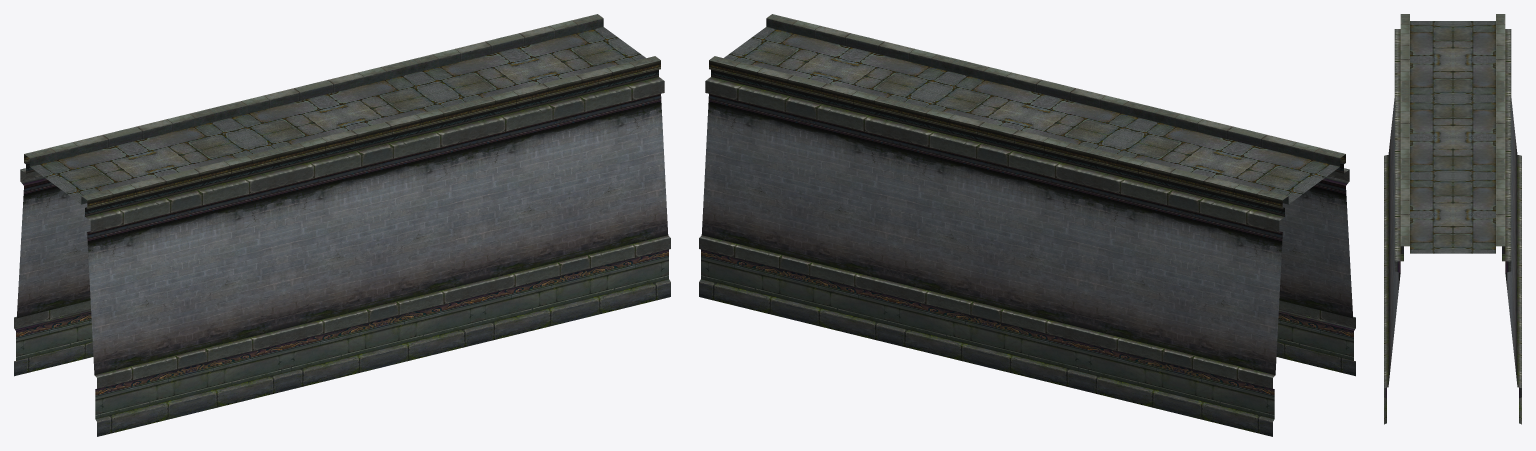
File: HYC_chengqiang_04.FBX
3 renders of one model, left to right at view 1: azimuth 30°, elevation 25°; view 2: azimuth 150°, elevation 25°; view 3: azimuth 270°, elevation 25°, orthographic. The views are drawn at different scales.
Visible parts, largest first — view 1: HYC_chengqiang_01; view 2: HYC_chengqiang_01; view 3: HYC_chengqiang_01.
Boxes of the visible parts, <box> form: HYC_chengqiang_01: <box>14,14,670,436</box>; HYC_chengqiang_01: <box>699,14,1355,436</box>; HYC_chengqiang_01: <box>1384,14,1521,424</box>.
Size of the model in its own units: 2917 by 1115 by 731.
